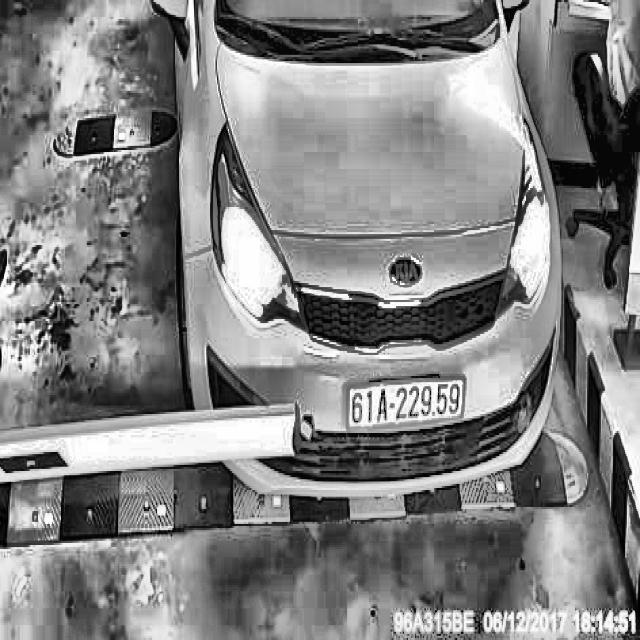plate: (343, 372, 469, 436)
